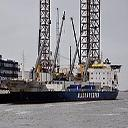Ships: (5, 58, 121, 105)
